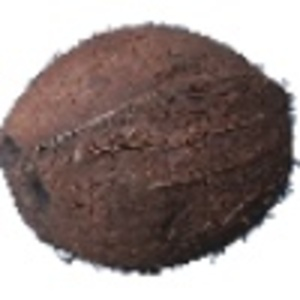coco: (1, 23, 300, 275)
